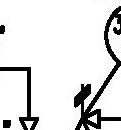psv: (73, 83, 101, 129)
